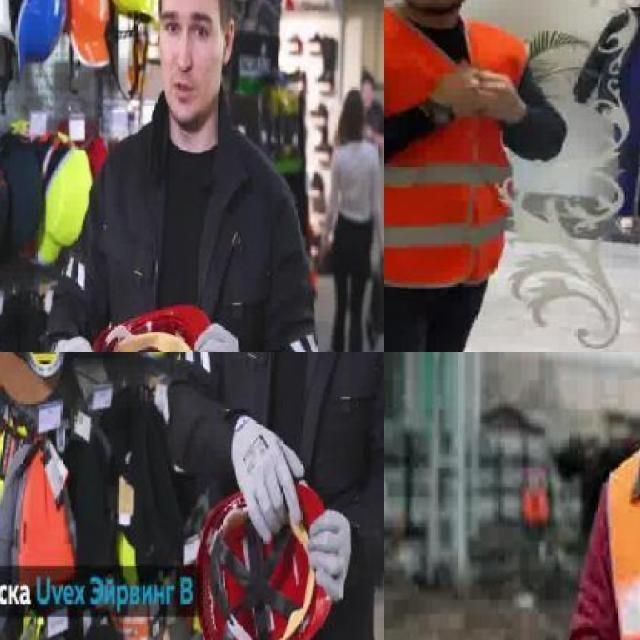apron: (232, 414, 308, 544), (306, 508, 352, 600), (190, 320, 247, 352)
